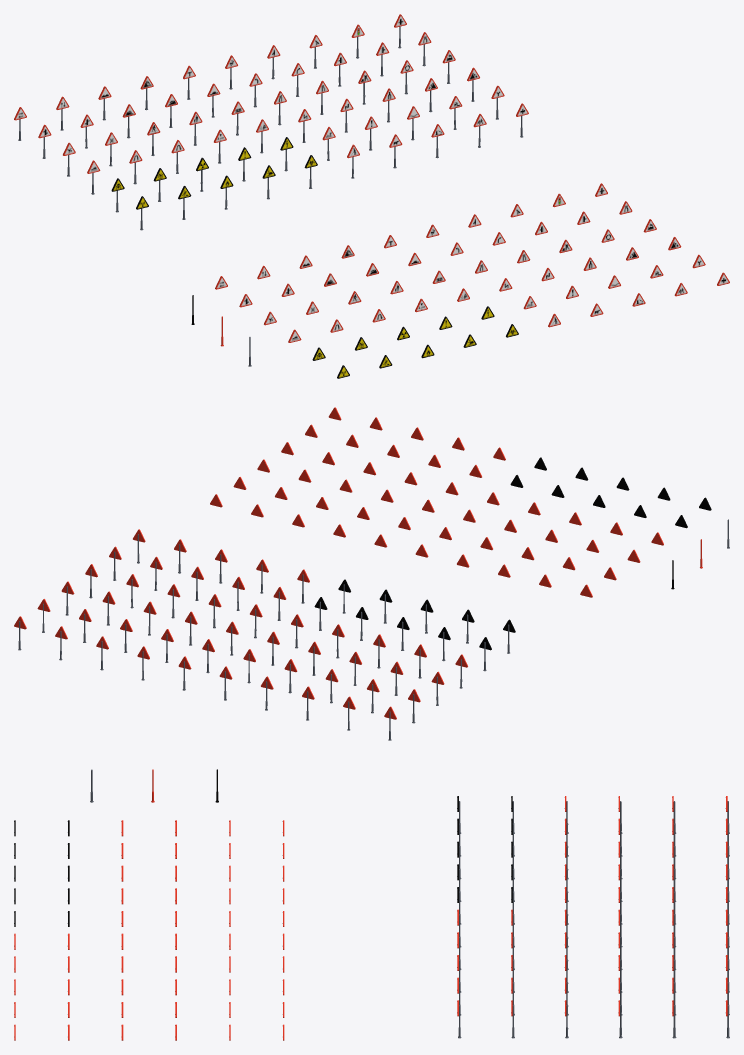
The model's file is 3D_cartoon_road_signs.fbx.
The picture shows the model from 3 angles, top to bottom: view 1: azimuth 30°, elevation 25°; view 2: azimuth 150°, elevation 25°; view 3: azimuth 270°, elevation 25°; orthographic projection. The views are drawn at different scales.
Size of the model in its own units: 31.71 by 2.29 by 39.99.
Materials: 63 (60 with a texture image).
